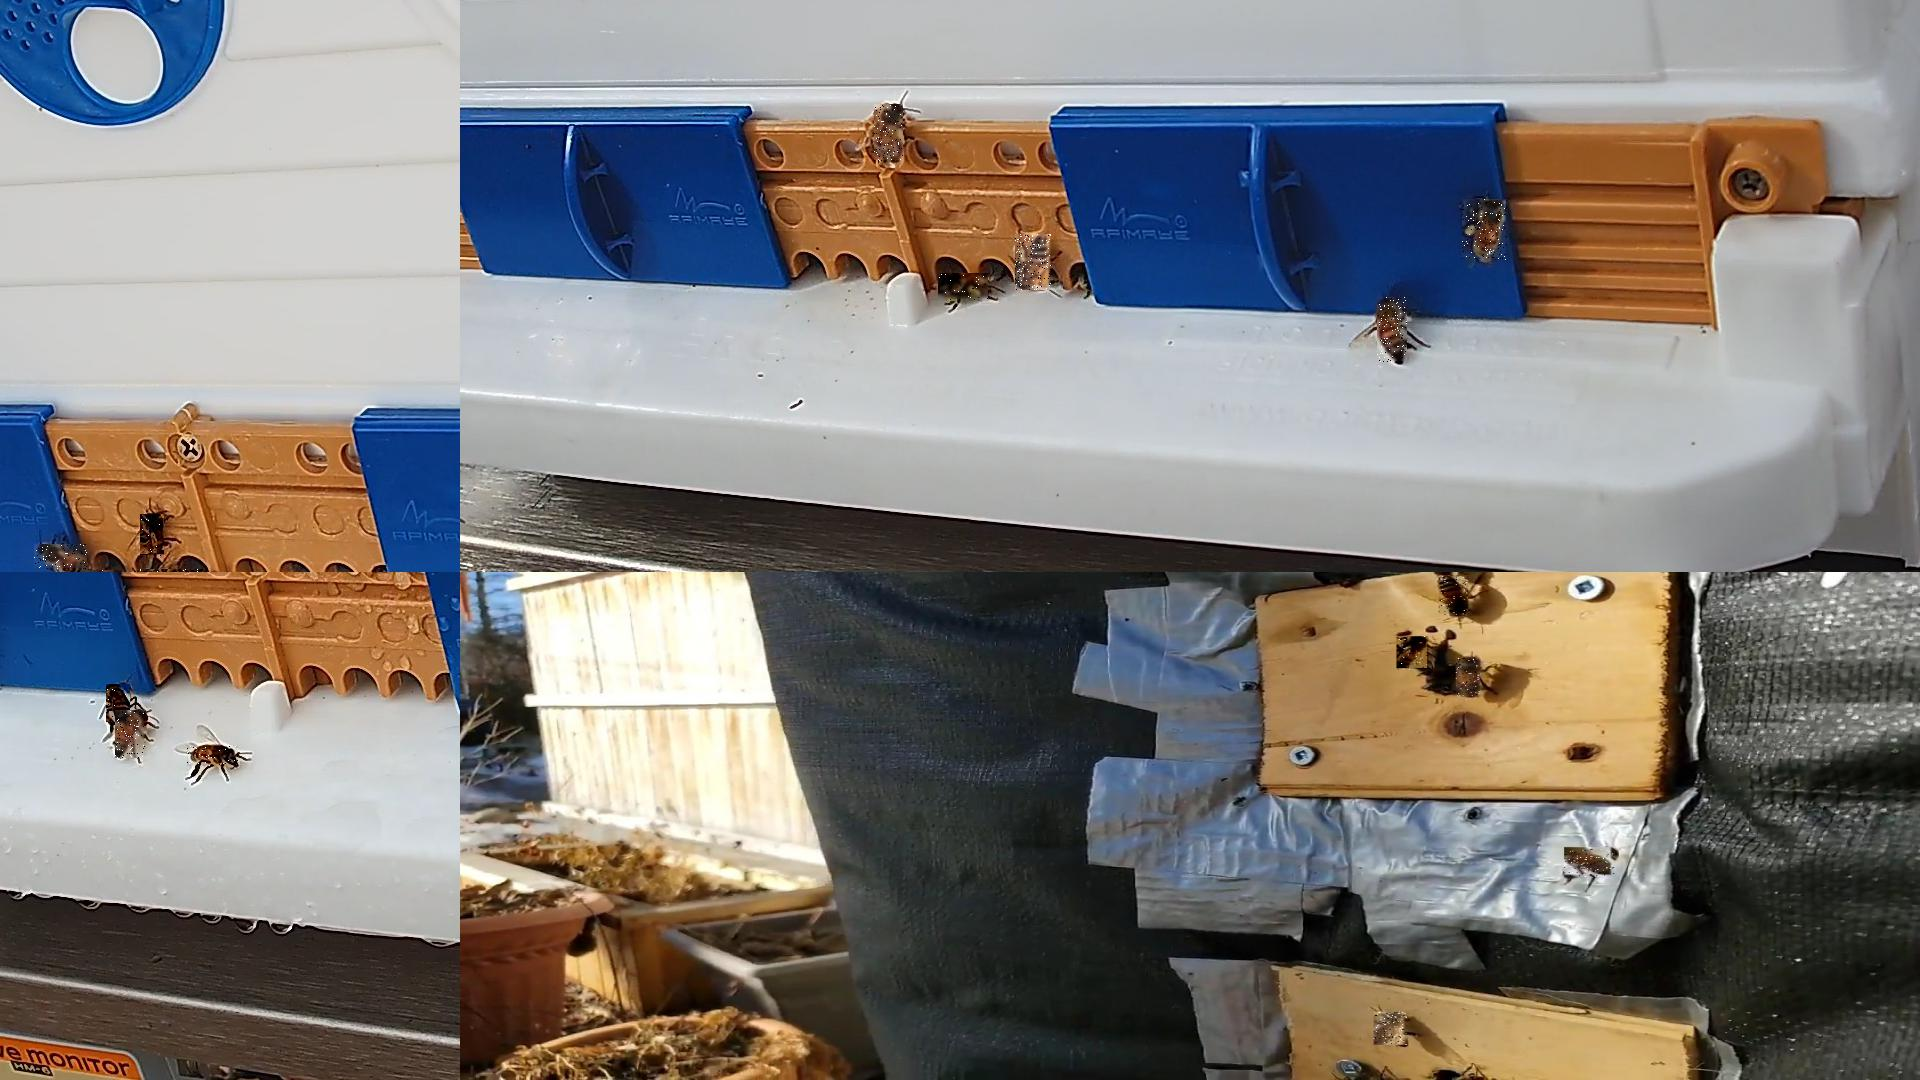bee: (1377, 298, 1408, 364), (874, 105, 904, 163), (1565, 848, 1617, 878), (116, 710, 147, 759), (34, 545, 88, 571), (1438, 577, 1470, 616), (1397, 637, 1433, 671), (1374, 1012, 1408, 1046), (140, 515, 165, 559), (187, 746, 239, 767), (1456, 657, 1481, 697), (106, 684, 131, 723)
pollenbee: (1462, 200, 1507, 262), (1016, 234, 1054, 291), (938, 274, 989, 302)
